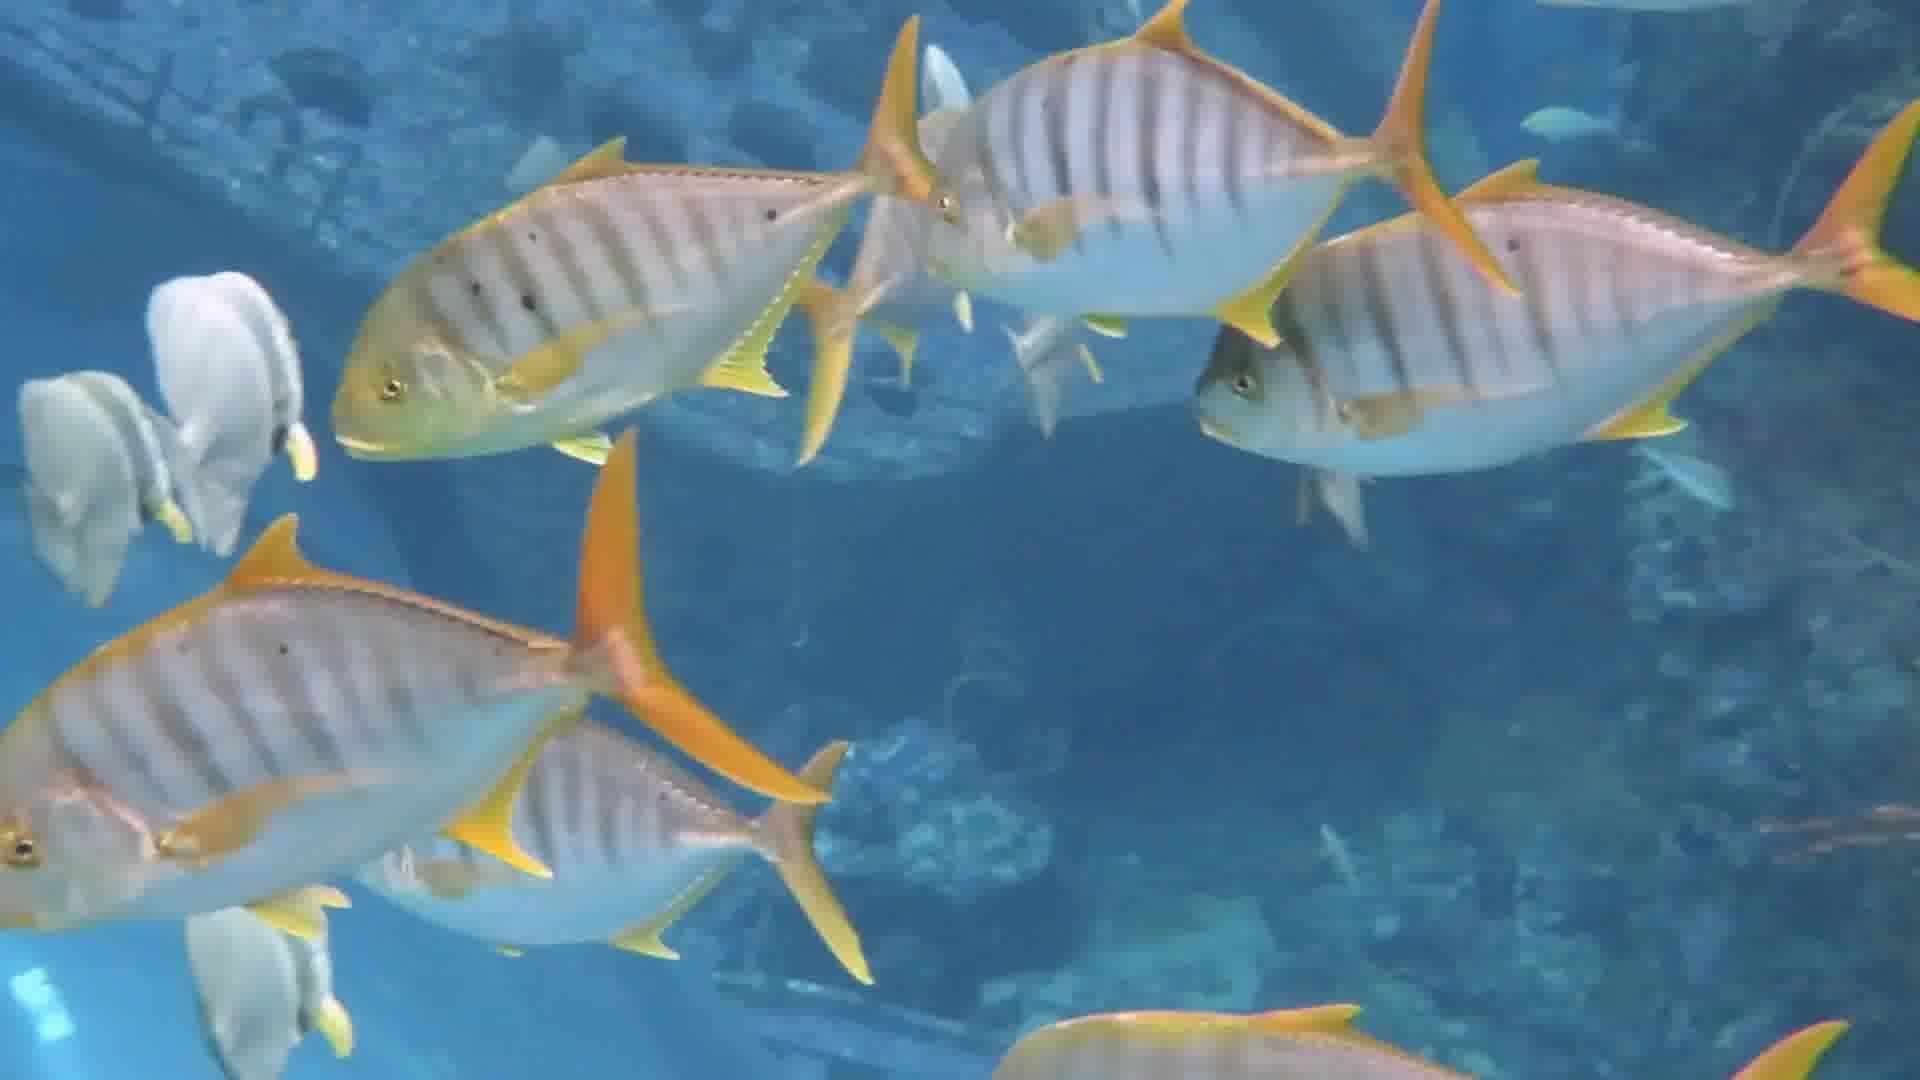Gnathanodon speciosus: (11, 502, 649, 913), (1174, 156, 1863, 487), (891, 25, 1485, 294), (357, 141, 845, 463)
